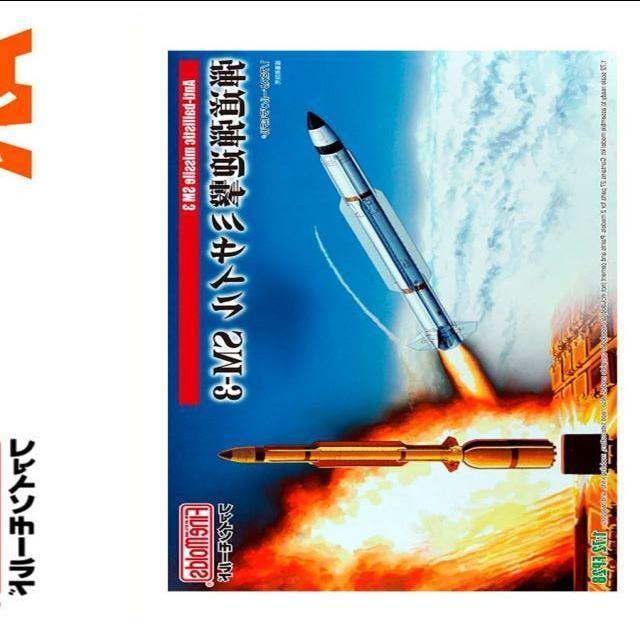Missile: (297, 107, 483, 354), (206, 434, 571, 476)
